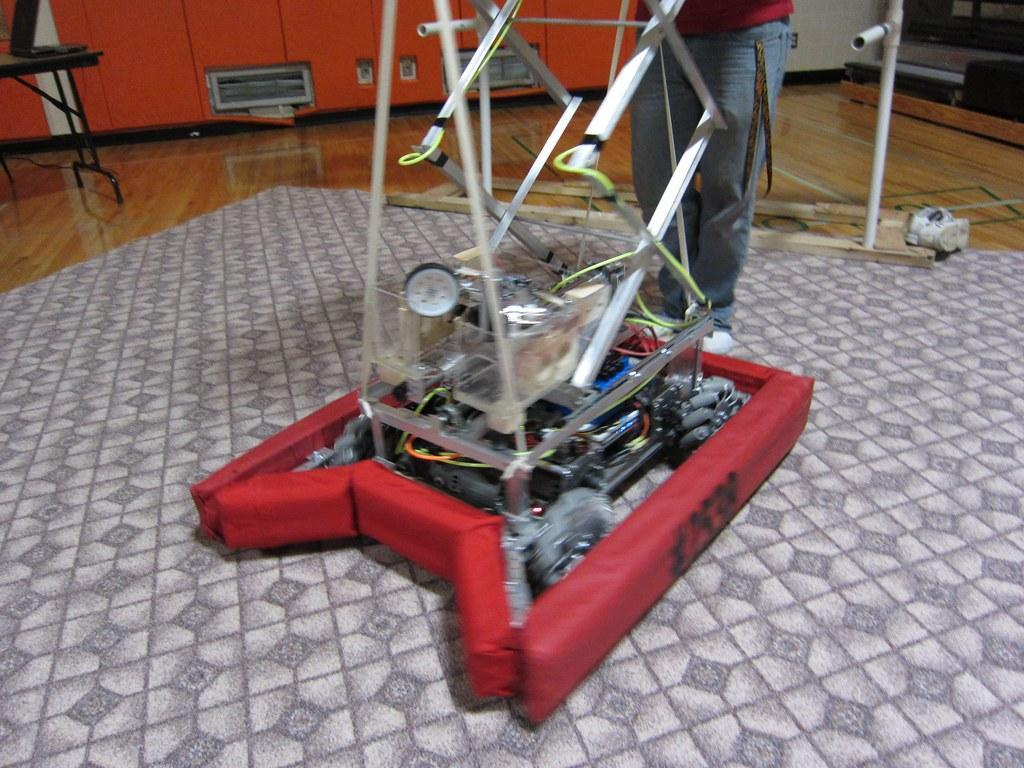robot: (192, 0, 810, 729)
